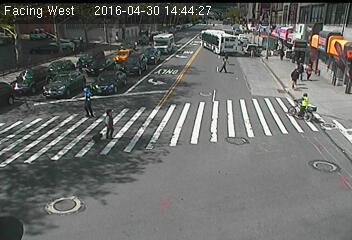neg: (304, 153, 328, 184), (162, 157, 184, 186), (292, 88, 314, 117), (218, 171, 237, 196), (231, 105, 249, 129), (211, 122, 229, 145), (30, 91, 47, 115), (32, 124, 48, 146), (108, 161, 124, 183), (157, 80, 172, 100), (287, 139, 301, 156), (159, 46, 172, 64), (280, 168, 292, 185), (248, 145, 260, 161), (129, 41, 141, 56), (182, 41, 193, 56), (37, 61, 48, 75), (188, 94, 198, 107), (84, 48, 92, 58), (55, 164, 60, 171)
pos: (72, 85, 100, 124), (95, 105, 123, 143), (286, 66, 303, 88), (296, 61, 308, 78), (304, 62, 316, 78), (276, 49, 288, 63), (218, 58, 229, 73), (295, 56, 304, 68), (222, 51, 229, 60)
